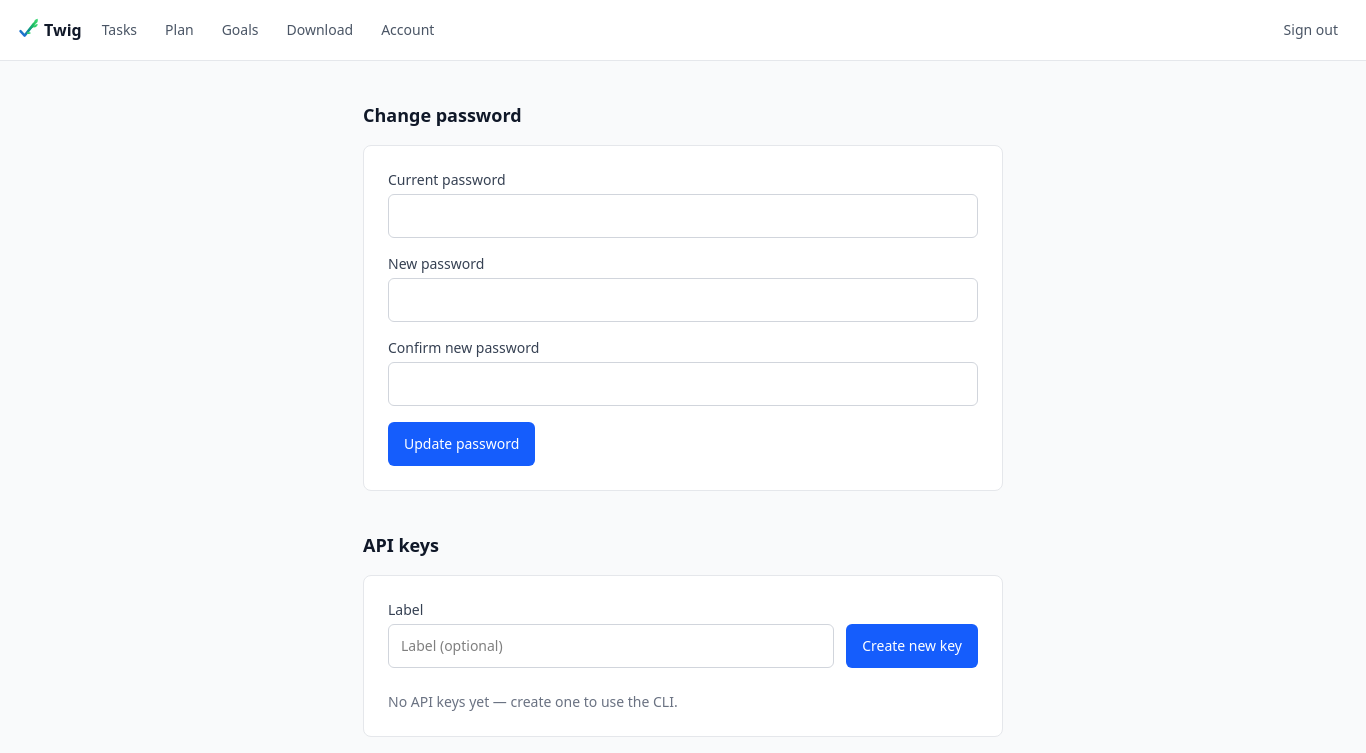
Test case: AccountPage — password change (US1) › shows error when confirmation does not match new password
In the password field labelled "Current password": (683, 216) [388,194,978,238], type "oldpass"
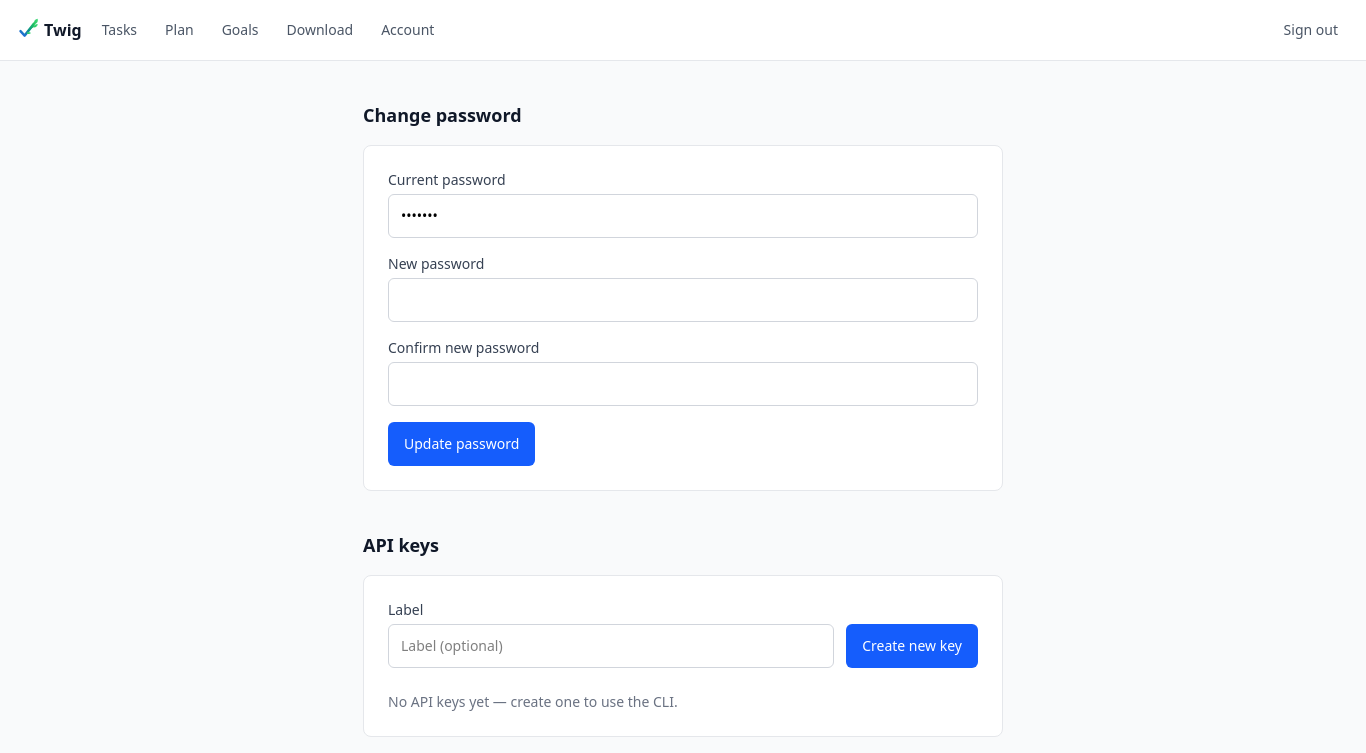
In the password field labelled "New password": (683, 300) [388,278,978,322], type "newpassword"
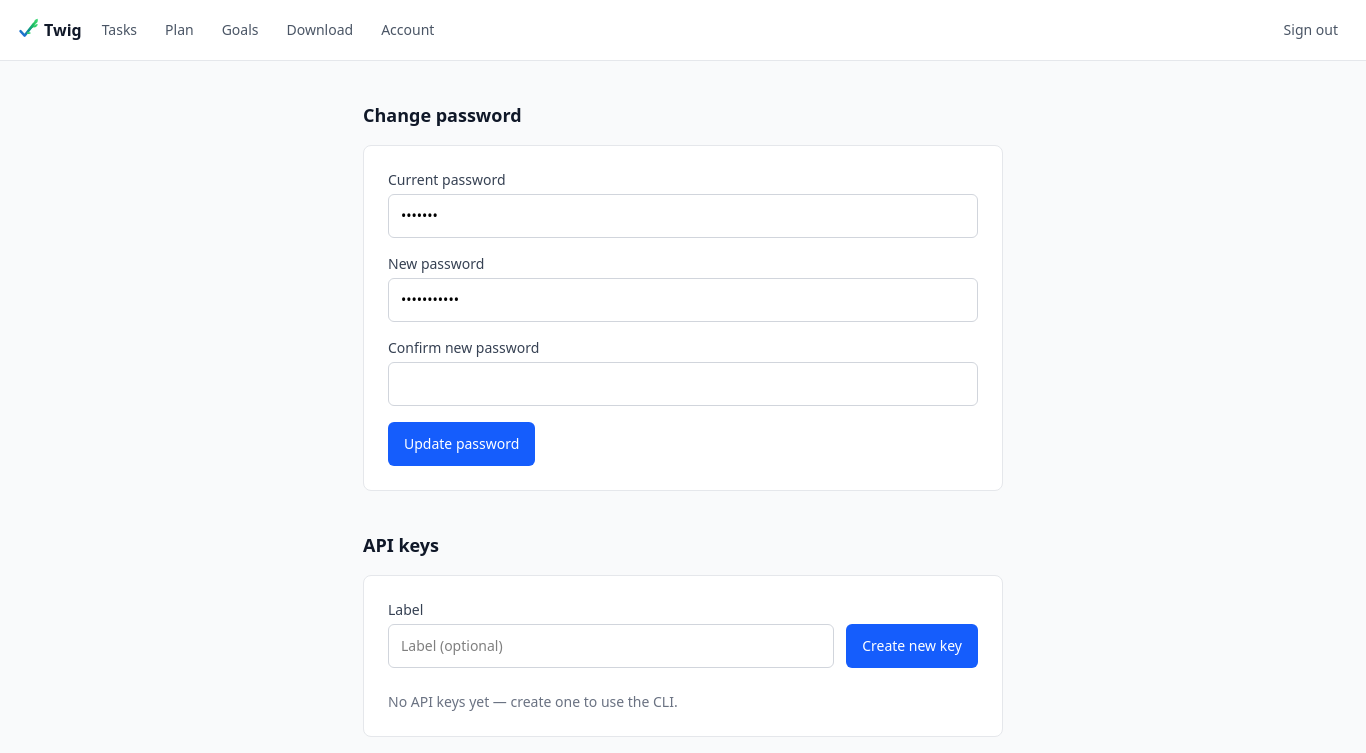
In the password field labelled "Confirm new password": (683, 384) [388,362,978,406], type "doesnotmatch"
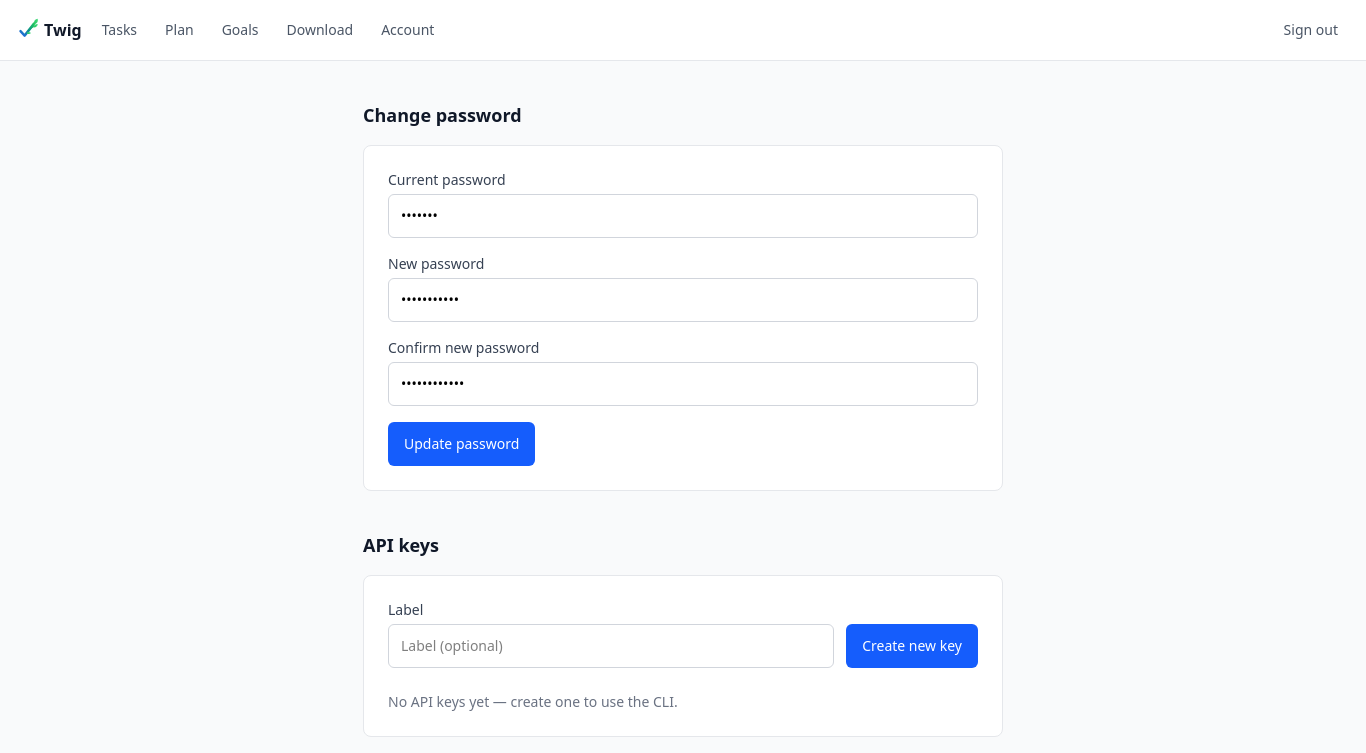
Click the button "Update password": (462, 444) [388,422,535,466]
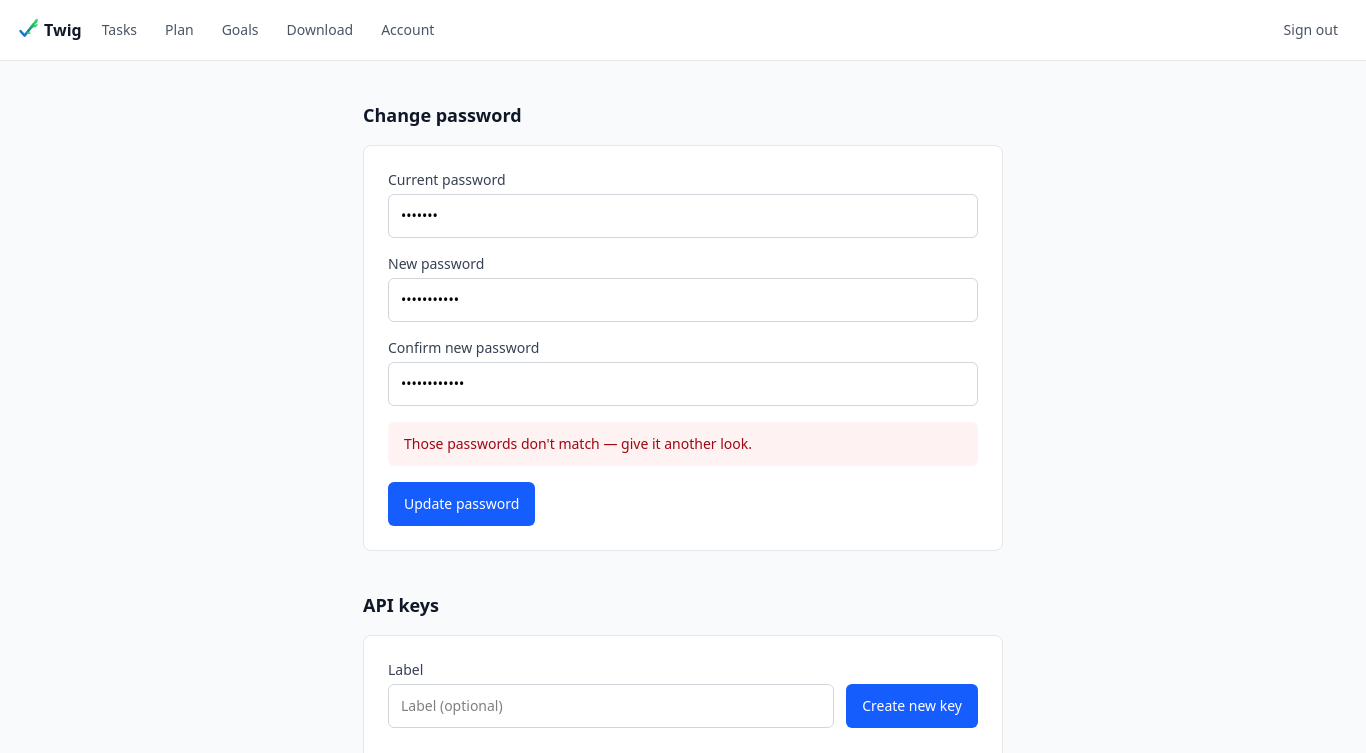
Now the message reads "Those passwords don't match — give it another look.", box [404,434,752,453]
